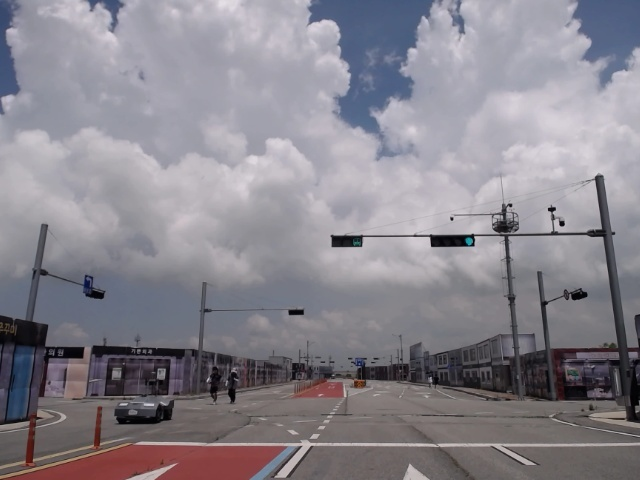straight_green_4: (431, 236, 474, 247)
